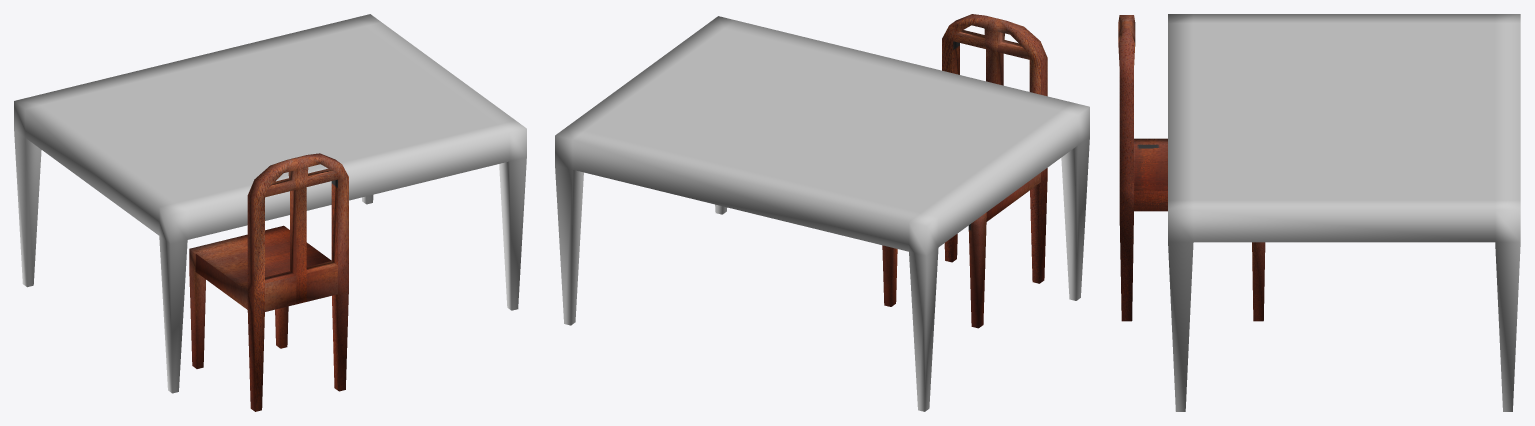
File: Dinneroom.fbx
3 renders of one model, left to right at view 1: azimuth 30°, elevation 25°; view 2: azimuth 150°, elevation 25°; view 3: azimuth 270°, elevation 25°, orthographic. The views are drawn at different scales.
Visible parts, largest first — view 1: DinnerTable, Chair; view 2: DinnerTable, Chair; view 3: DinnerTable, Chair.
Part boxes in pixels (x1,y1,x2,y2): DinnerTable: (14, 14, 526, 393); Chair: (189, 153, 348, 411); DinnerTable: (555, 16, 1089, 411); Chair: (882, 14, 1047, 328); DinnerTable: (1168, 14, 1520, 411); Chair: (1118, 15, 1265, 321).
Size of the model in its own units: 183 by 118 by 159.
